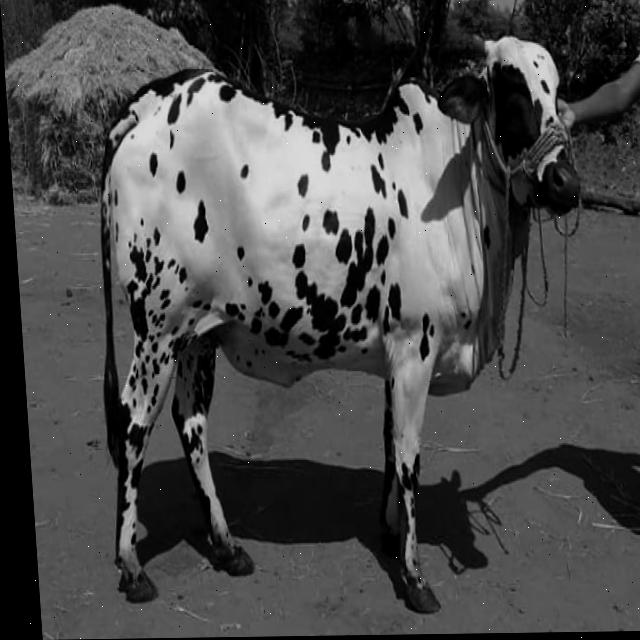Cow: (77, 30, 609, 618)
